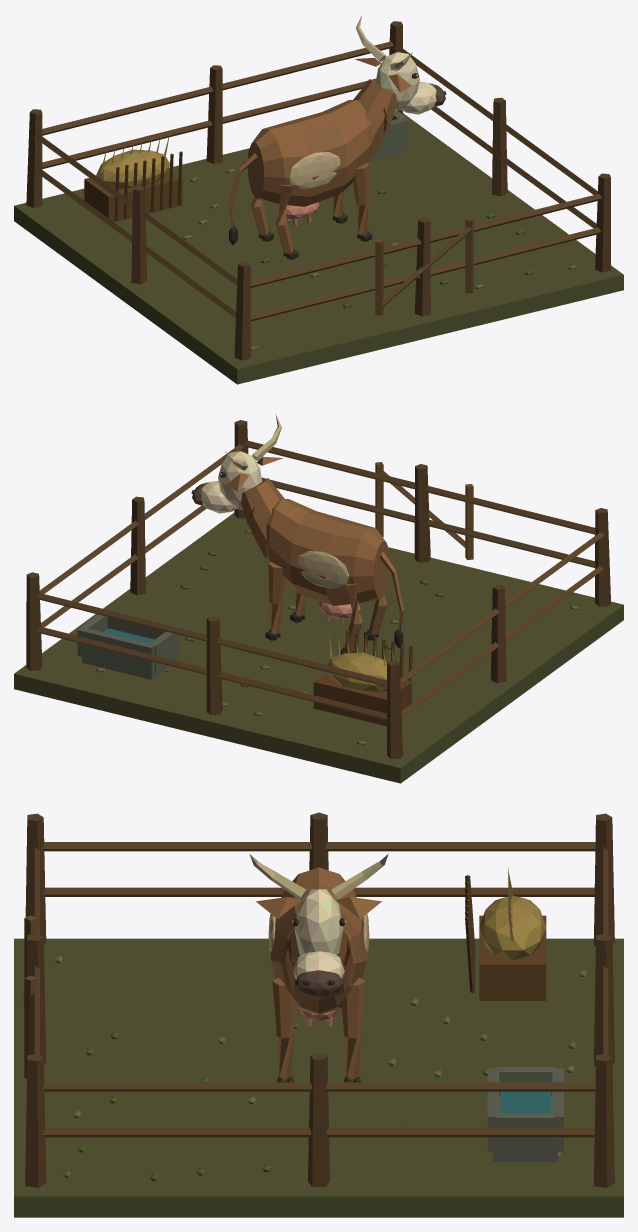
The model's file is elevage_vache_petit.glb.
3 views of the same model, one above another, from view 1: azimuth 30°, elevation 25°; view 2: azimuth 150°, elevation 25°; view 3: azimuth 270°, elevation 25° (orthographic). The views are drawn at different scales.
Visible parts, largest first — view 1: Enclos_petit, Vache_00; view 2: Enclos_petit, Vache_00; view 3: Enclos_petit, Vache_00.
Boxes of the visible parts, bbox=[...] form: Enclos_petit: bbox=[14, 21, 623, 384]; Vache_00: bbox=[228, 15, 446, 259]; Enclos_petit: bbox=[14, 420, 623, 783]; Vache_00: bbox=[191, 414, 404, 654]; Enclos_petit: bbox=[14, 812, 623, 1217]; Vache_00: bbox=[249, 854, 388, 1082].
Size of the model in its own units: 0.472 by 0.24 by 0.472.
